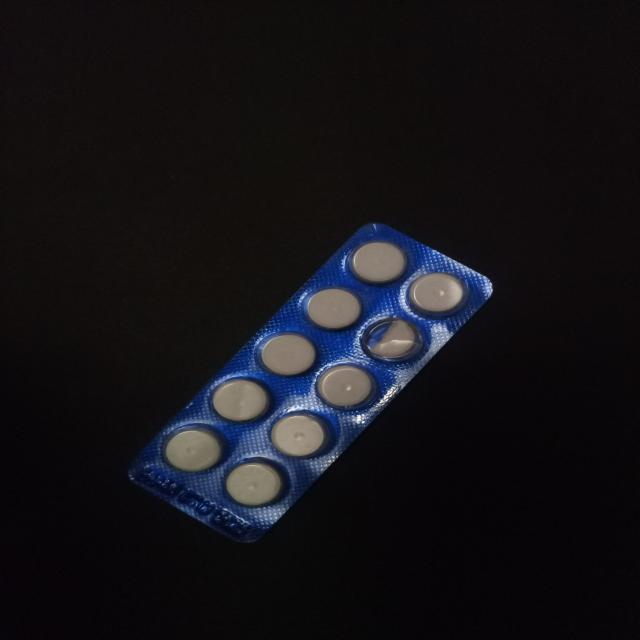defect: (359, 315, 427, 364)
